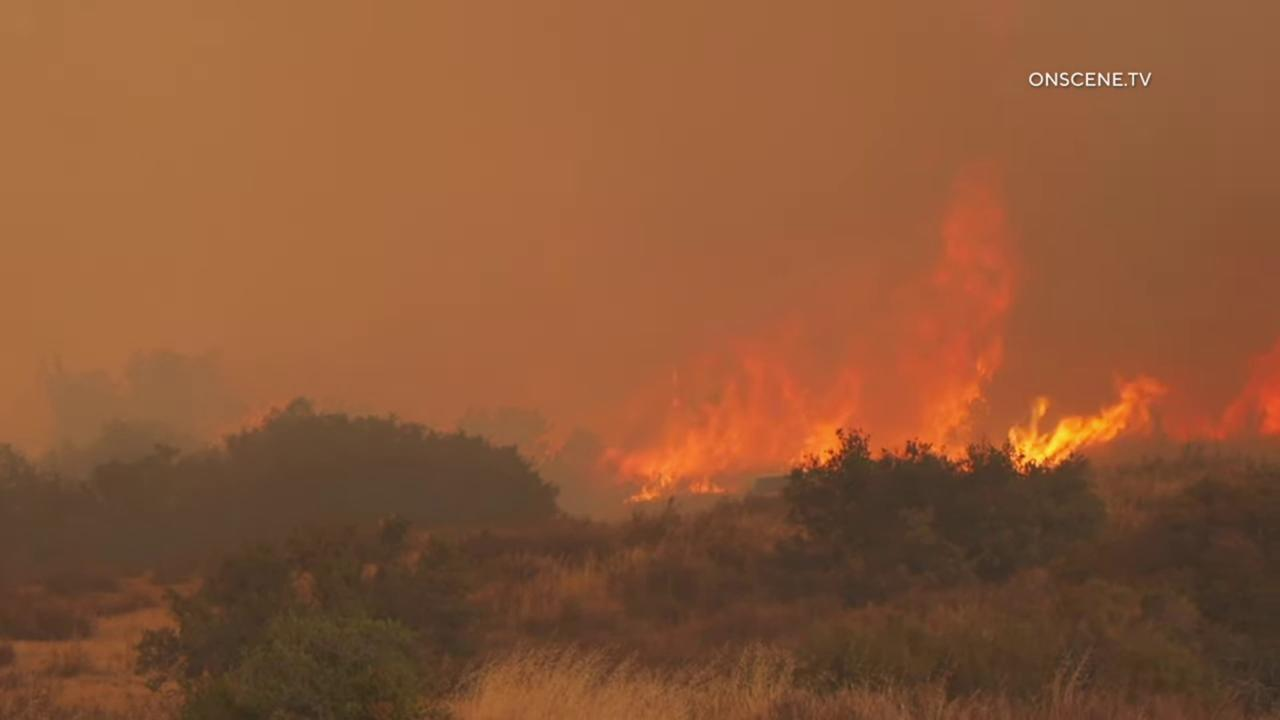fire: (584, 152, 1280, 514)
smoke: (0, 0, 1280, 536)
